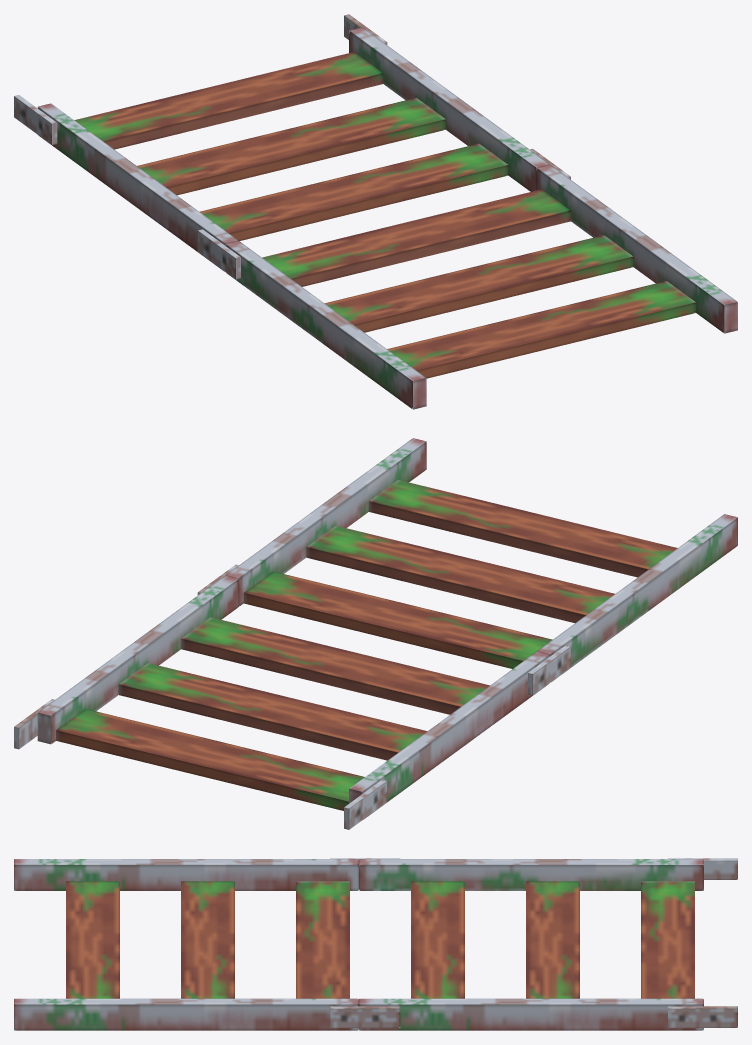
The model's file is train tracks.fbx.
The picture shows the model from 3 angles, top to bottom: view 1: azimuth 30°, elevation 25°; view 2: azimuth 150°, elevation 25°; view 3: azimuth 270°, elevation 25°; orthographic projection. The views are drawn at different scales.
Parts seen in each view (by area): view 1: cuboid_5, cuboid, cuboid_2, cuboid_3, cuboid_1, cuboid_4, cube_2, cube_1, cube, cube_3, cube_4, cube_6; view 2: cuboid_3, cuboid_4, cuboid, cuboid_2, cuboid_5, cuboid_1, cube_2, cube, cube_3, cube_1, cube_6, cube_4 (+1 smaller); view 3: cube_1, cube, cube_2, cube_3, cuboid, cuboid_2, cuboid_3, cuboid_1, cuboid_4, cuboid_5, cube_5, cube_7 (+1 smaller).
Part boxes in pixels (bbox=[...]): cuboid_5: bbox=[199, 143, 508, 241]; cuboid: bbox=[325, 235, 633, 332]; cuboid_2: bbox=[262, 189, 570, 286]; cuboid_3: bbox=[74, 52, 383, 149]; cuboid_1: bbox=[387, 281, 695, 378]; cuboid_4: bbox=[137, 97, 445, 195]; cube_2: bbox=[225, 241, 426, 409]; cube_1: bbox=[536, 165, 737, 333]; cube: bbox=[349, 27, 549, 191]; cube_3: bbox=[37, 103, 238, 271]; cube_4: bbox=[197, 229, 240, 279]; cube_6: bbox=[14, 95, 57, 144]; cuboid_3: bbox=[56, 709, 364, 810]; cuboid_4: bbox=[118, 663, 427, 760]; cuboid: bbox=[306, 525, 614, 622]; cuboid_2: bbox=[243, 571, 552, 668]; cuboid_5: bbox=[181, 617, 489, 714]; cuboid_1: bbox=[369, 480, 677, 577]; cube_2: bbox=[536, 514, 737, 682]; cube: bbox=[37, 575, 238, 744]; cube_3: bbox=[349, 651, 549, 819]; cube_1: bbox=[226, 438, 426, 606]; cube_6: bbox=[344, 779, 387, 829]; cube_4: bbox=[528, 645, 570, 695]; cube_1: bbox=[14, 998, 358, 1030]; cube: bbox=[359, 998, 703, 1030]; cube_2: bbox=[14, 859, 358, 890]; cube_3: bbox=[359, 859, 703, 890]; cuboid: bbox=[181, 881, 234, 998]; cuboid_2: bbox=[296, 881, 349, 998]; cuboid_3: bbox=[641, 881, 694, 998]; cuboid_1: bbox=[66, 881, 119, 998]; cuboid_4: bbox=[526, 881, 579, 998]; cuboid_5: bbox=[411, 881, 464, 998]; cube_5: bbox=[330, 1006, 400, 1027]; cube_7: bbox=[668, 1006, 737, 1027].
Size of the model in its own units: 309 by 25 by 630.
Materials: 2 (2 with a texture image).
